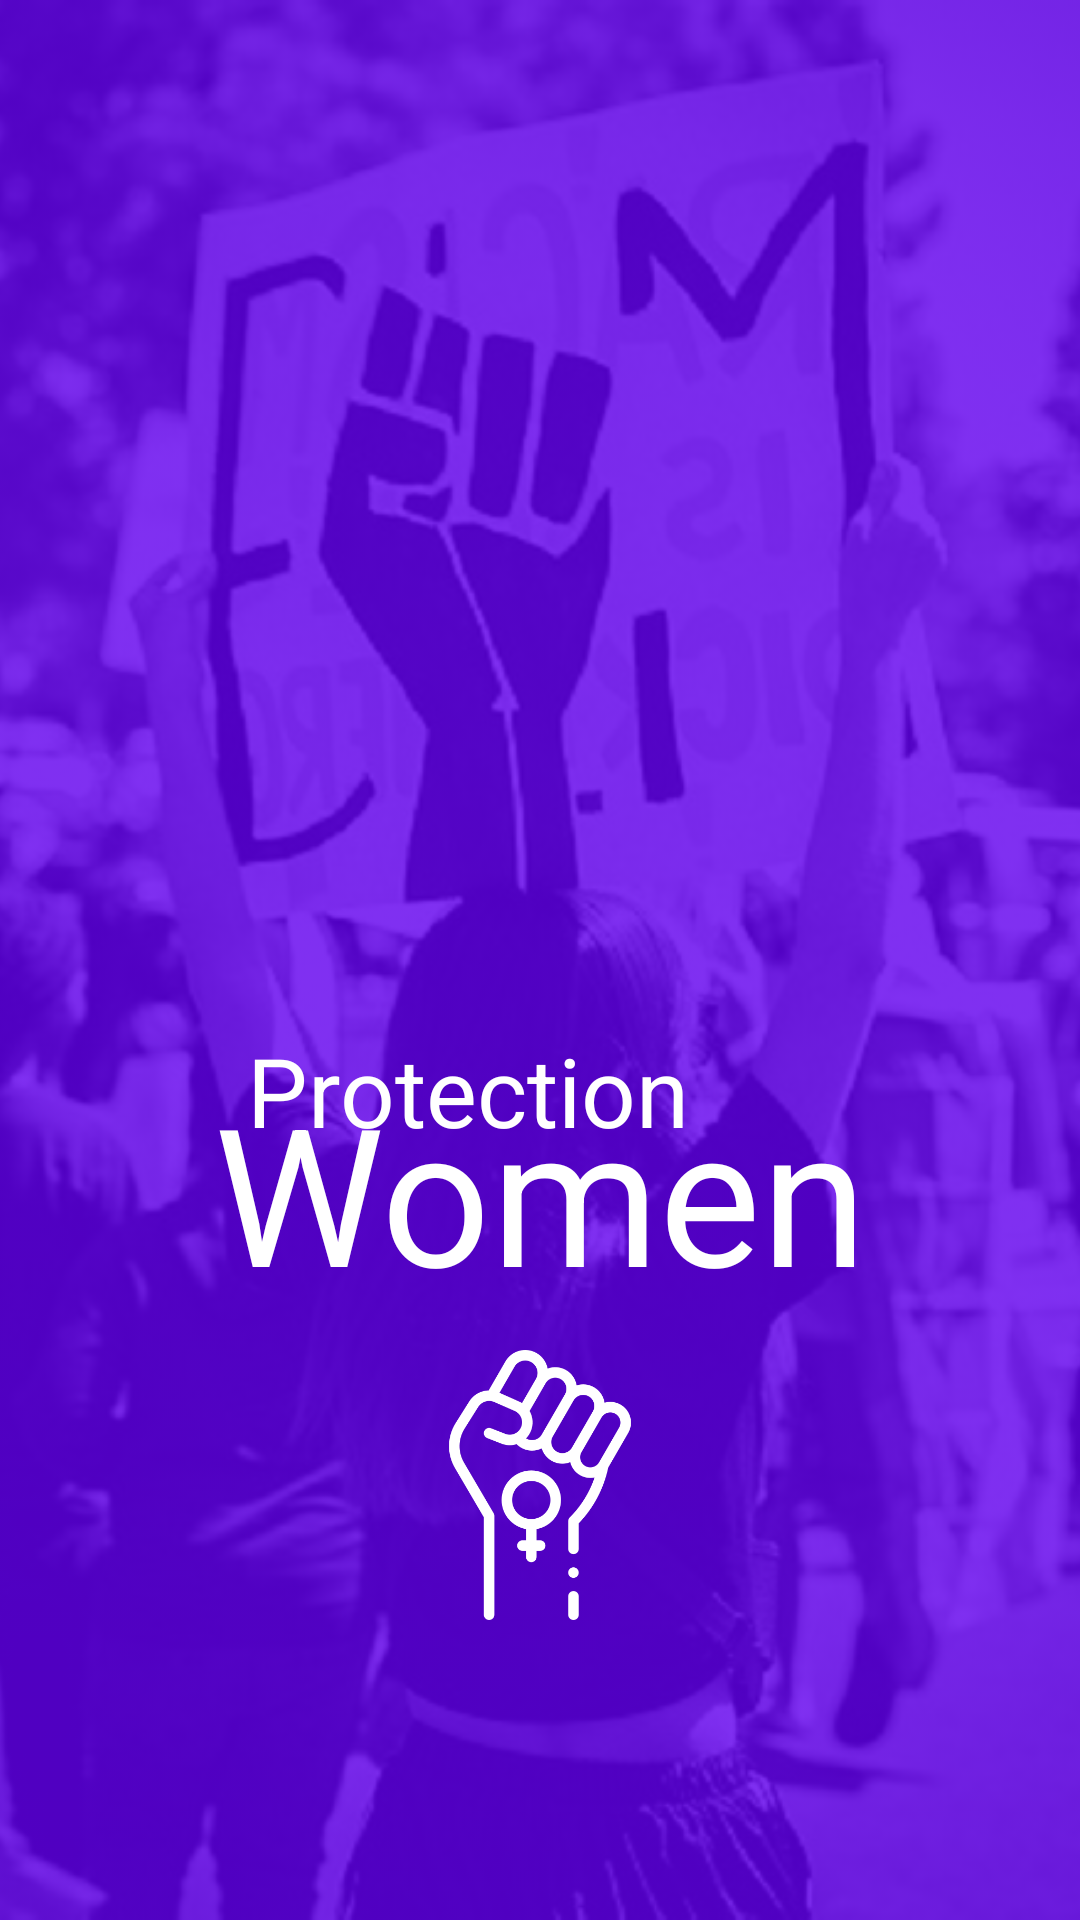

Locate icon controls on the screen. Image size 1080w x 1920h, boxes as (x1, y1, x2, y2).
girlpower: (449, 1350, 631, 1620)
